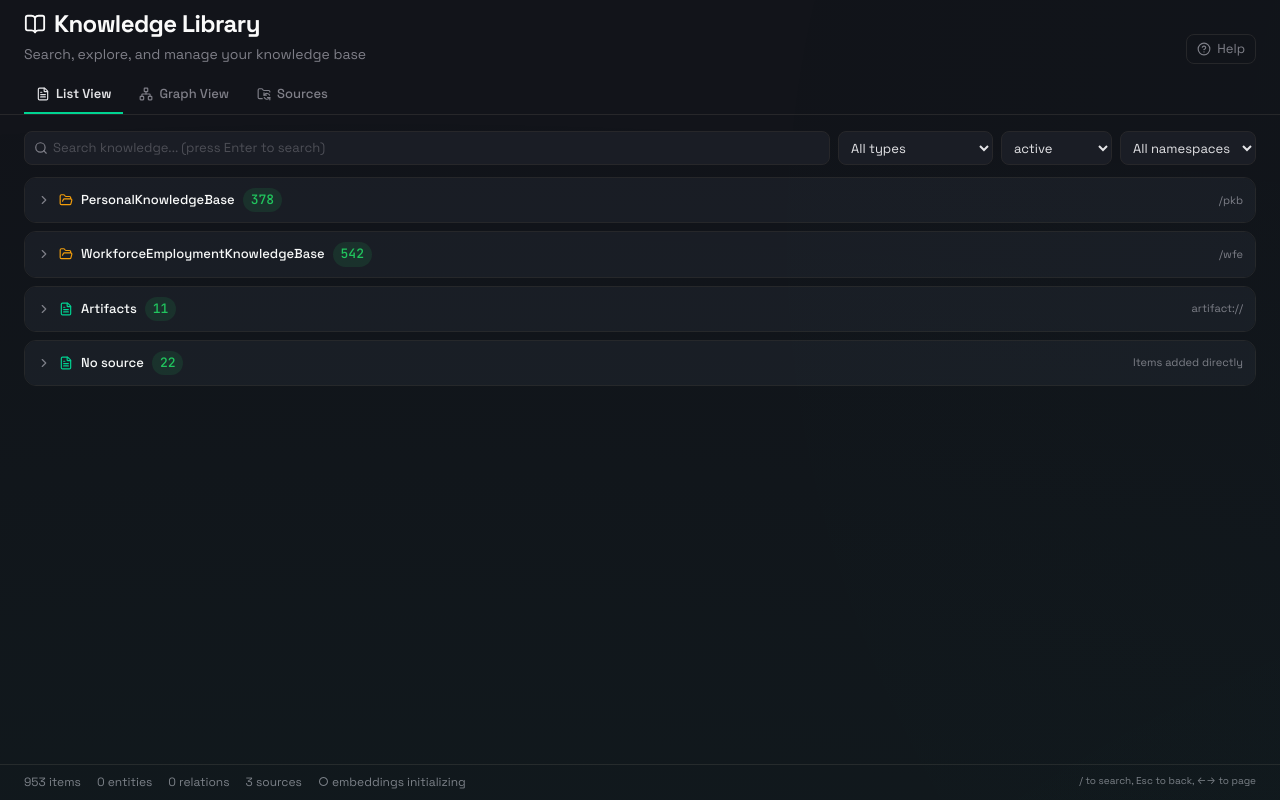
Test: Knowledge List View — source-first rows › select-all reaches only items rendered on screen
The width and height of the screenshot is (1280, 800).
Expand one source, then collapse it: its react-query cache is retained.
Click the text "Artifacts". click: (109, 309)
box: [81,299,137,319]
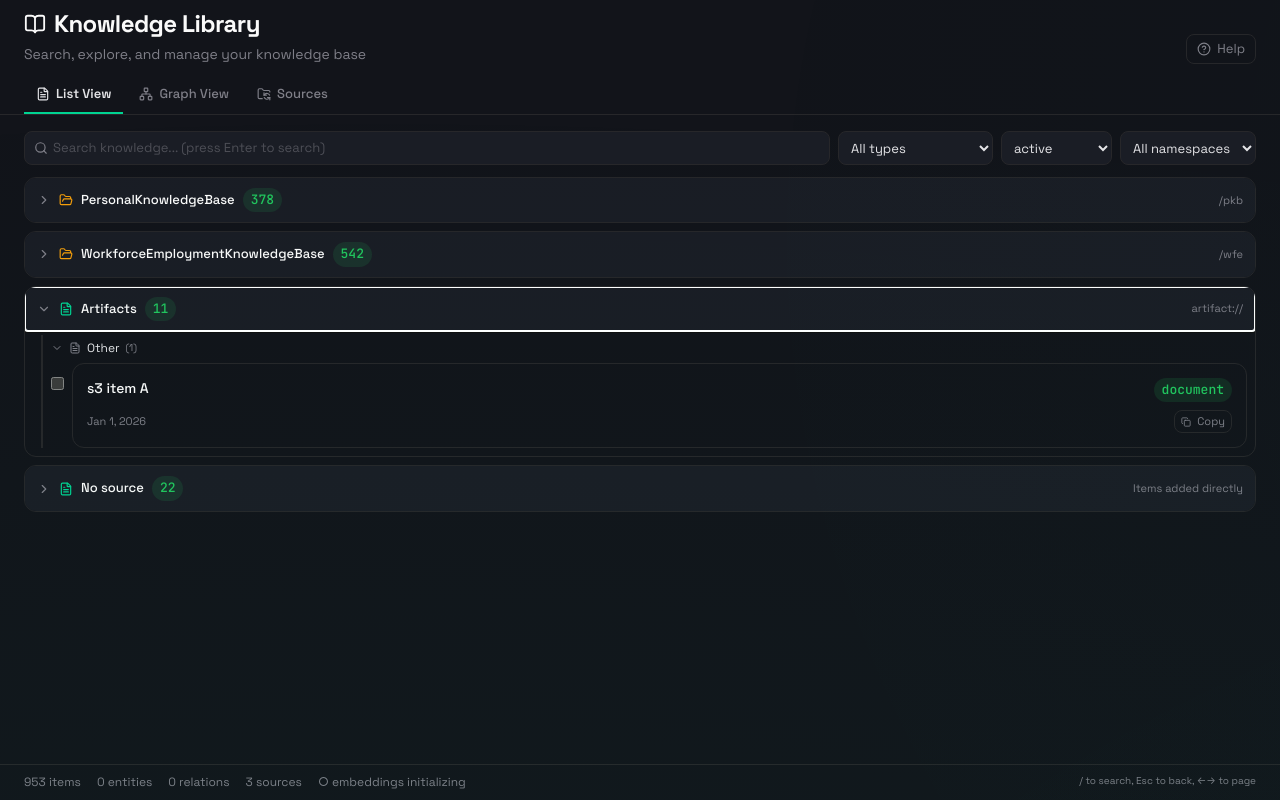
expect the checkbox named "Select s3 item A" is shown: met, box [51,377,64,390]
Click the text "Artifacts". click: (109, 309)
box: [81,299,137,319]
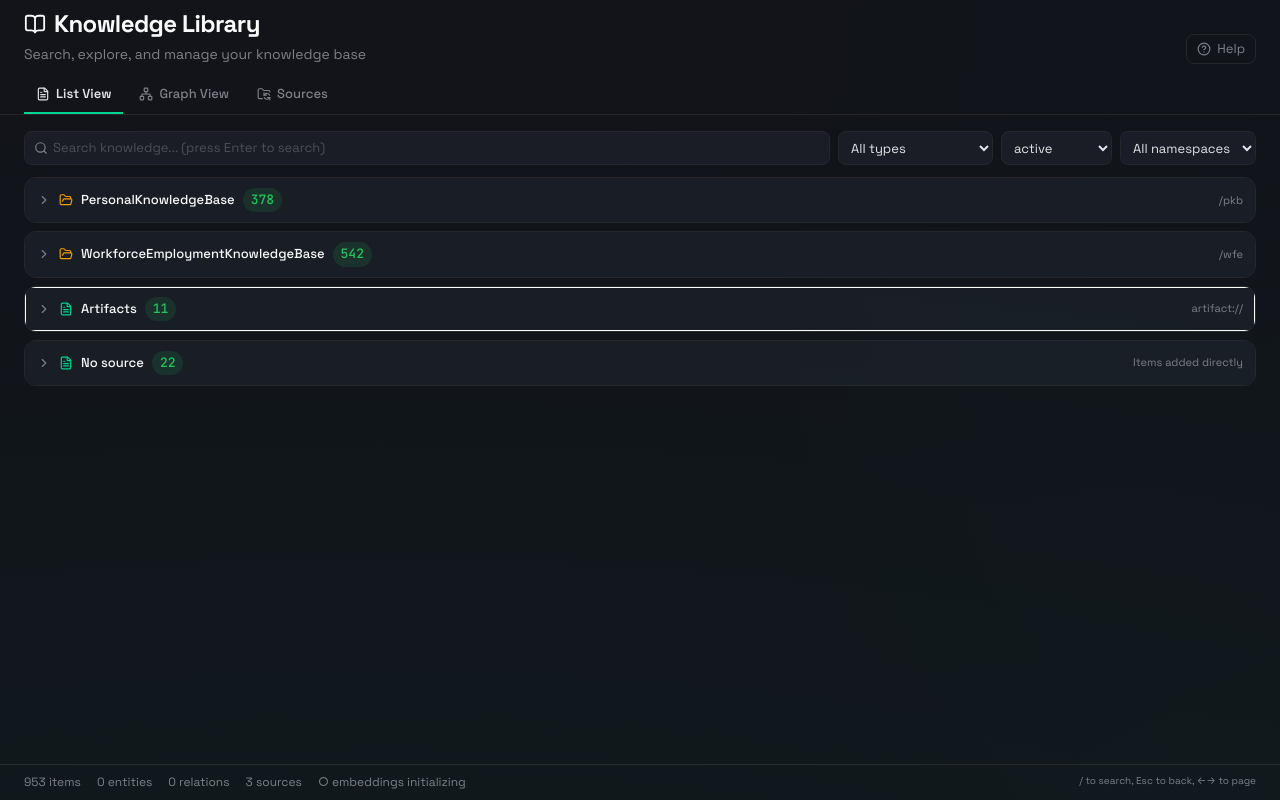
Expand a different source and select all.
Click the text "PersonalKnowledgeBase". click: (158, 200)
box: [81,190,235,210]
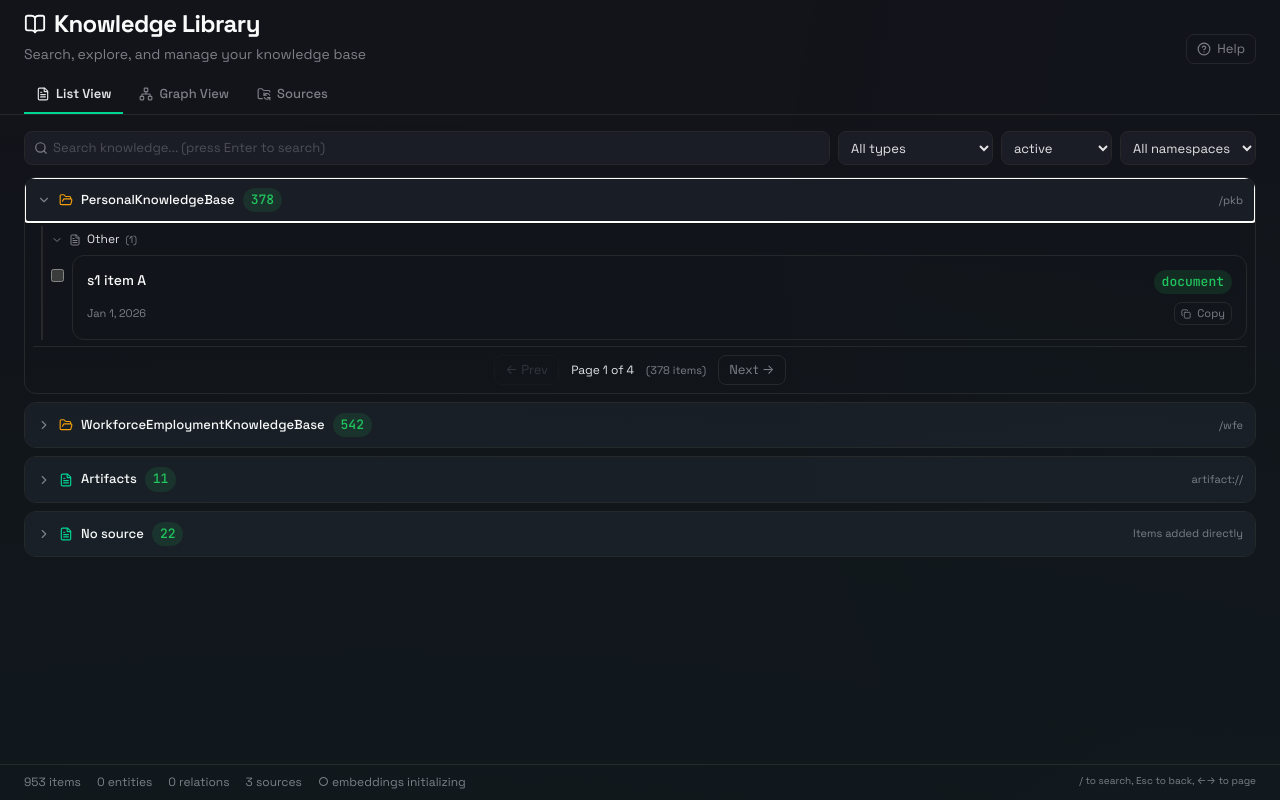
expect the checkbox named "Select s1 item A" is shown: met, box [51,269,64,282]
Type keys "{Control>}a{/Control}"
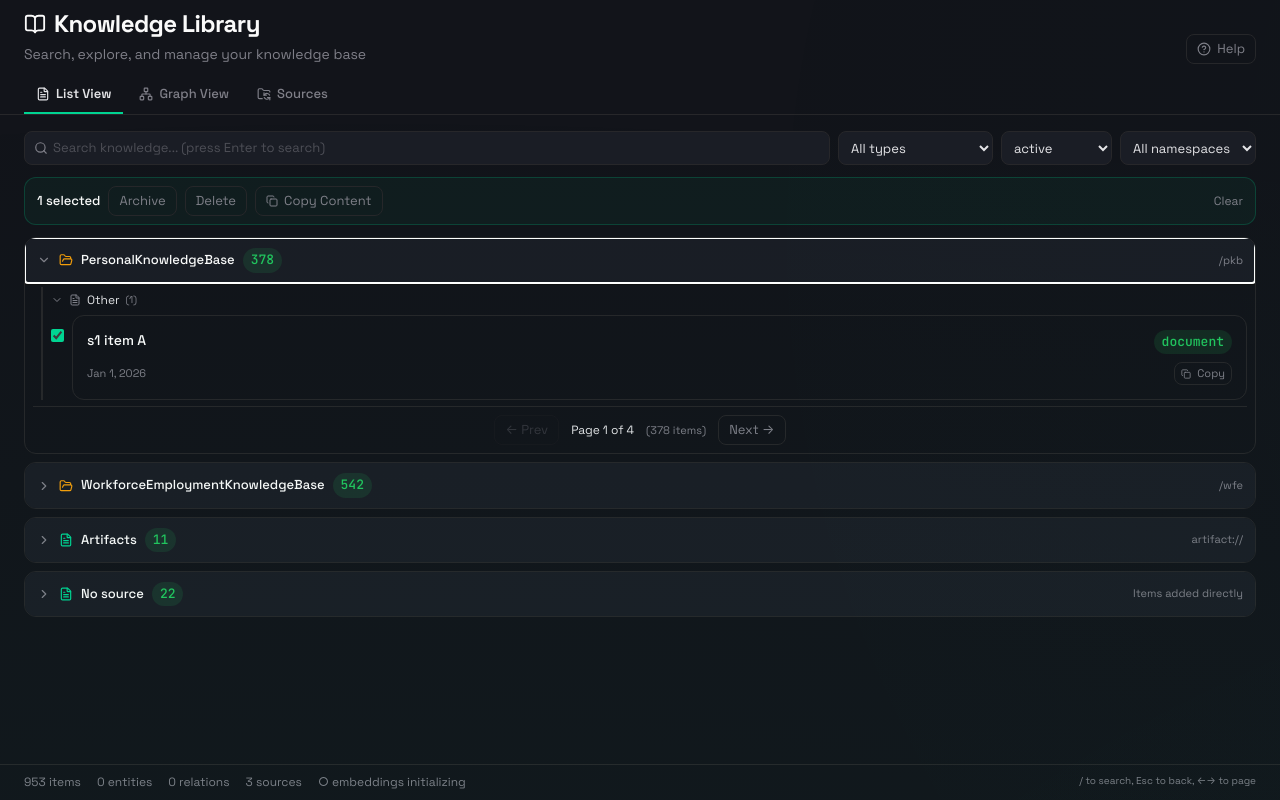
expect the text "1 selected" is shown: met, box [37,191,100,211]
